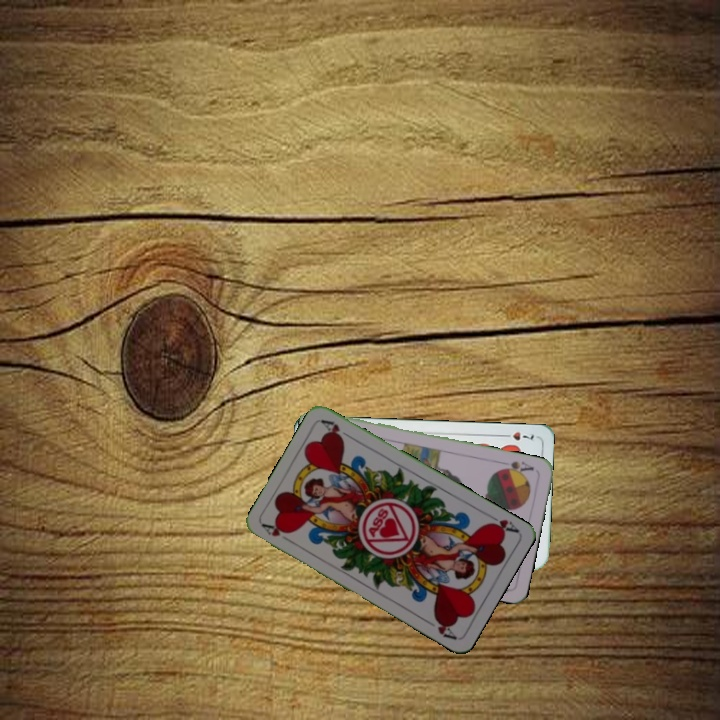H7: (497, 428, 537, 443)
HA: (483, 510, 521, 536), (259, 520, 296, 545)
SA: (497, 457, 536, 477)
